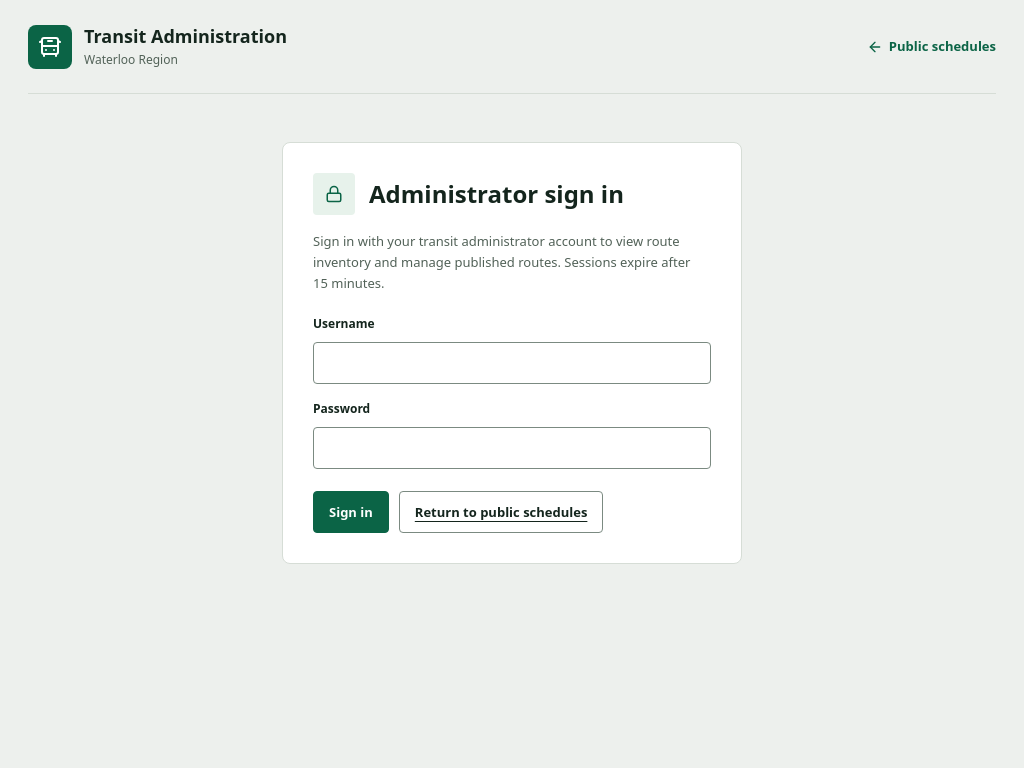
Test: shows invalid credential and provider-unavailable messages on login without leaving login
The image size is (1024, 768).
Type "transit.admin" into the field labelled "Username" at (512, 363), box [313,342,711,384]
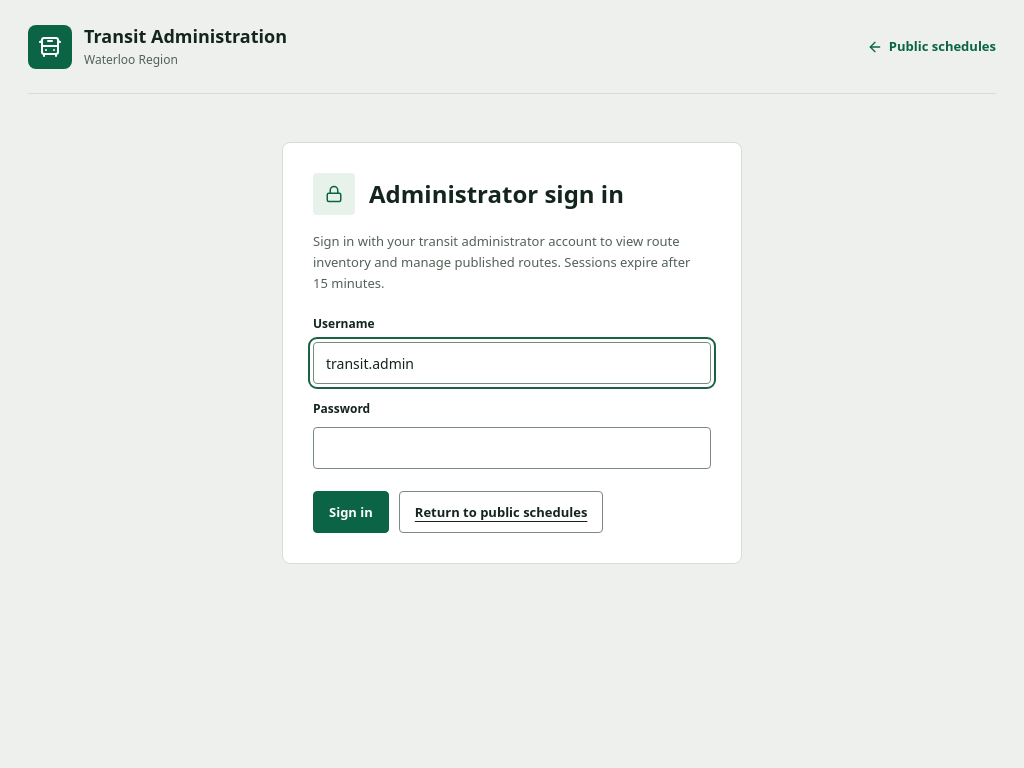
Type "wrong-pw" into the password field labelled "Password" at (512, 448), box [313,427,711,469]
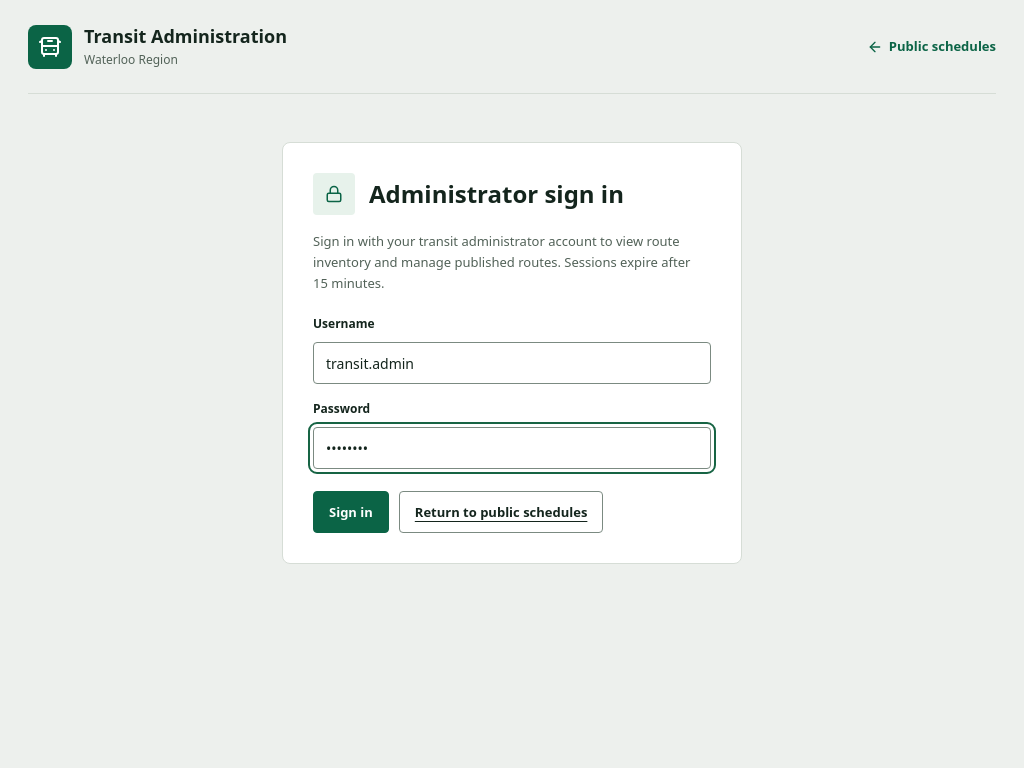
Click the button "Sign in" at (351, 512), box [313,491,389,533]
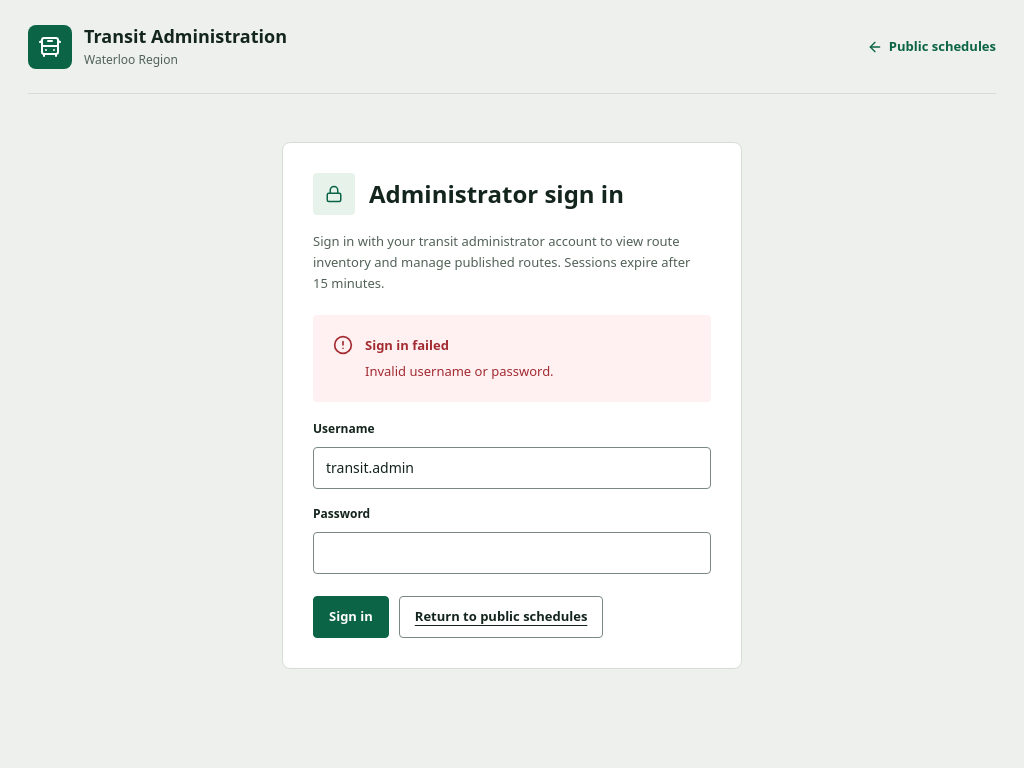
Check: the text "Invalid username or password." is shown, box [365,362,554,380]
Check: the password field labelled "Password" is empty
Type "any-pw" into the password field labelled "Password" at (512, 553), box [313,532,711,574]
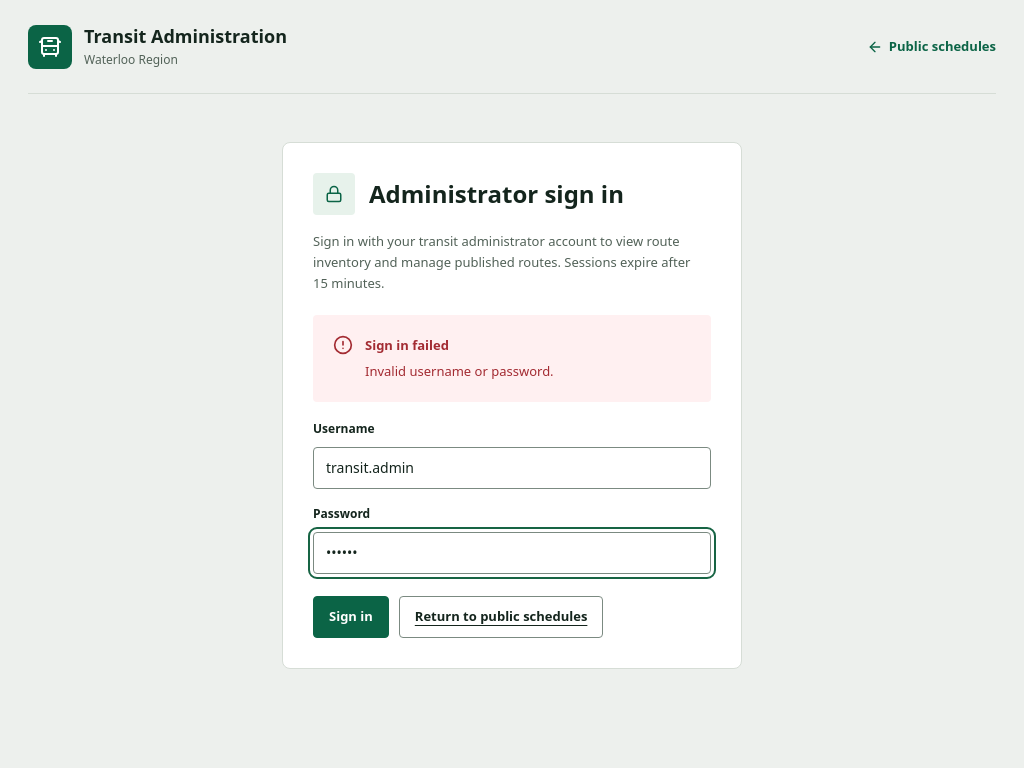
Click the button "Sign in" at (351, 617), box [313,596,389,638]
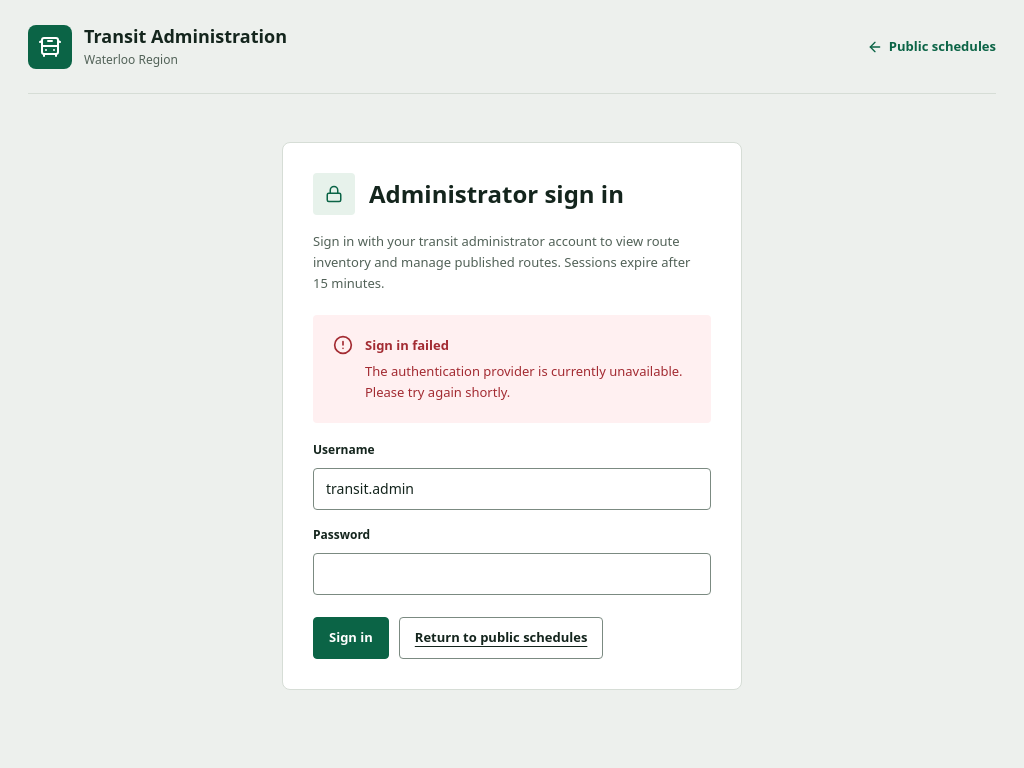
Check: the text "provider is currently unavailable" is shown, box [365,362,683,401]
